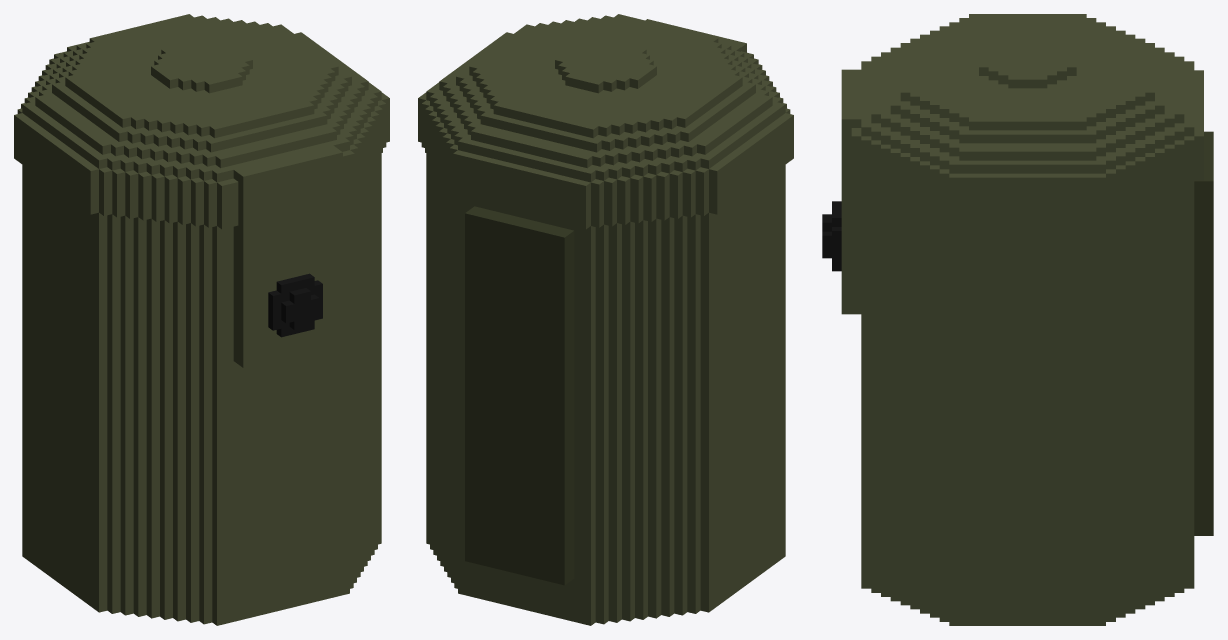
Rendered from tactical_grenade_pouch.glb.
3 views of the same model, side by side, from view 1: azimuth 30°, elevation 25°; view 2: azimuth 150°, elevation 25°; view 3: azimuth 270°, elevation 25° (orthographic). The views are drawn at different scales.
Parts seen in each view (by area): view 1: tactical_grenade_pouch:compound; view 2: tactical_grenade_pouch:compound; view 3: tactical_grenade_pouch:compound.
Boxes of the visible parts, left/top/right/bottom form: tactical_grenade_pouch:compound: left=14, top=14, right=389, bottom=625; tactical_grenade_pouch:compound: left=418, top=14, right=793, bottom=625; tactical_grenade_pouch:compound: left=822, top=14, right=1213, bottom=625.
Size of the model in its own units: 0.072 by 0.112 by 0.08.
